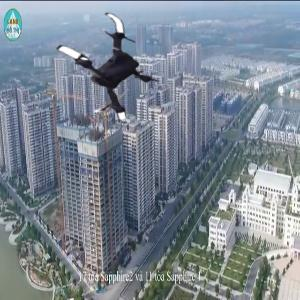drone: (52, 12, 174, 134)
